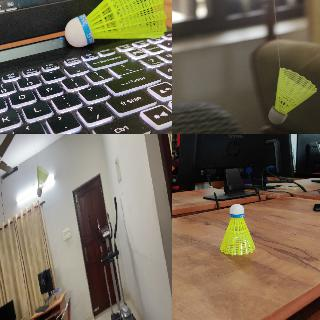shuttlecock: (64, 0, 171, 46), (268, 68, 316, 124), (220, 204, 256, 254), (36, 165, 48, 196)
